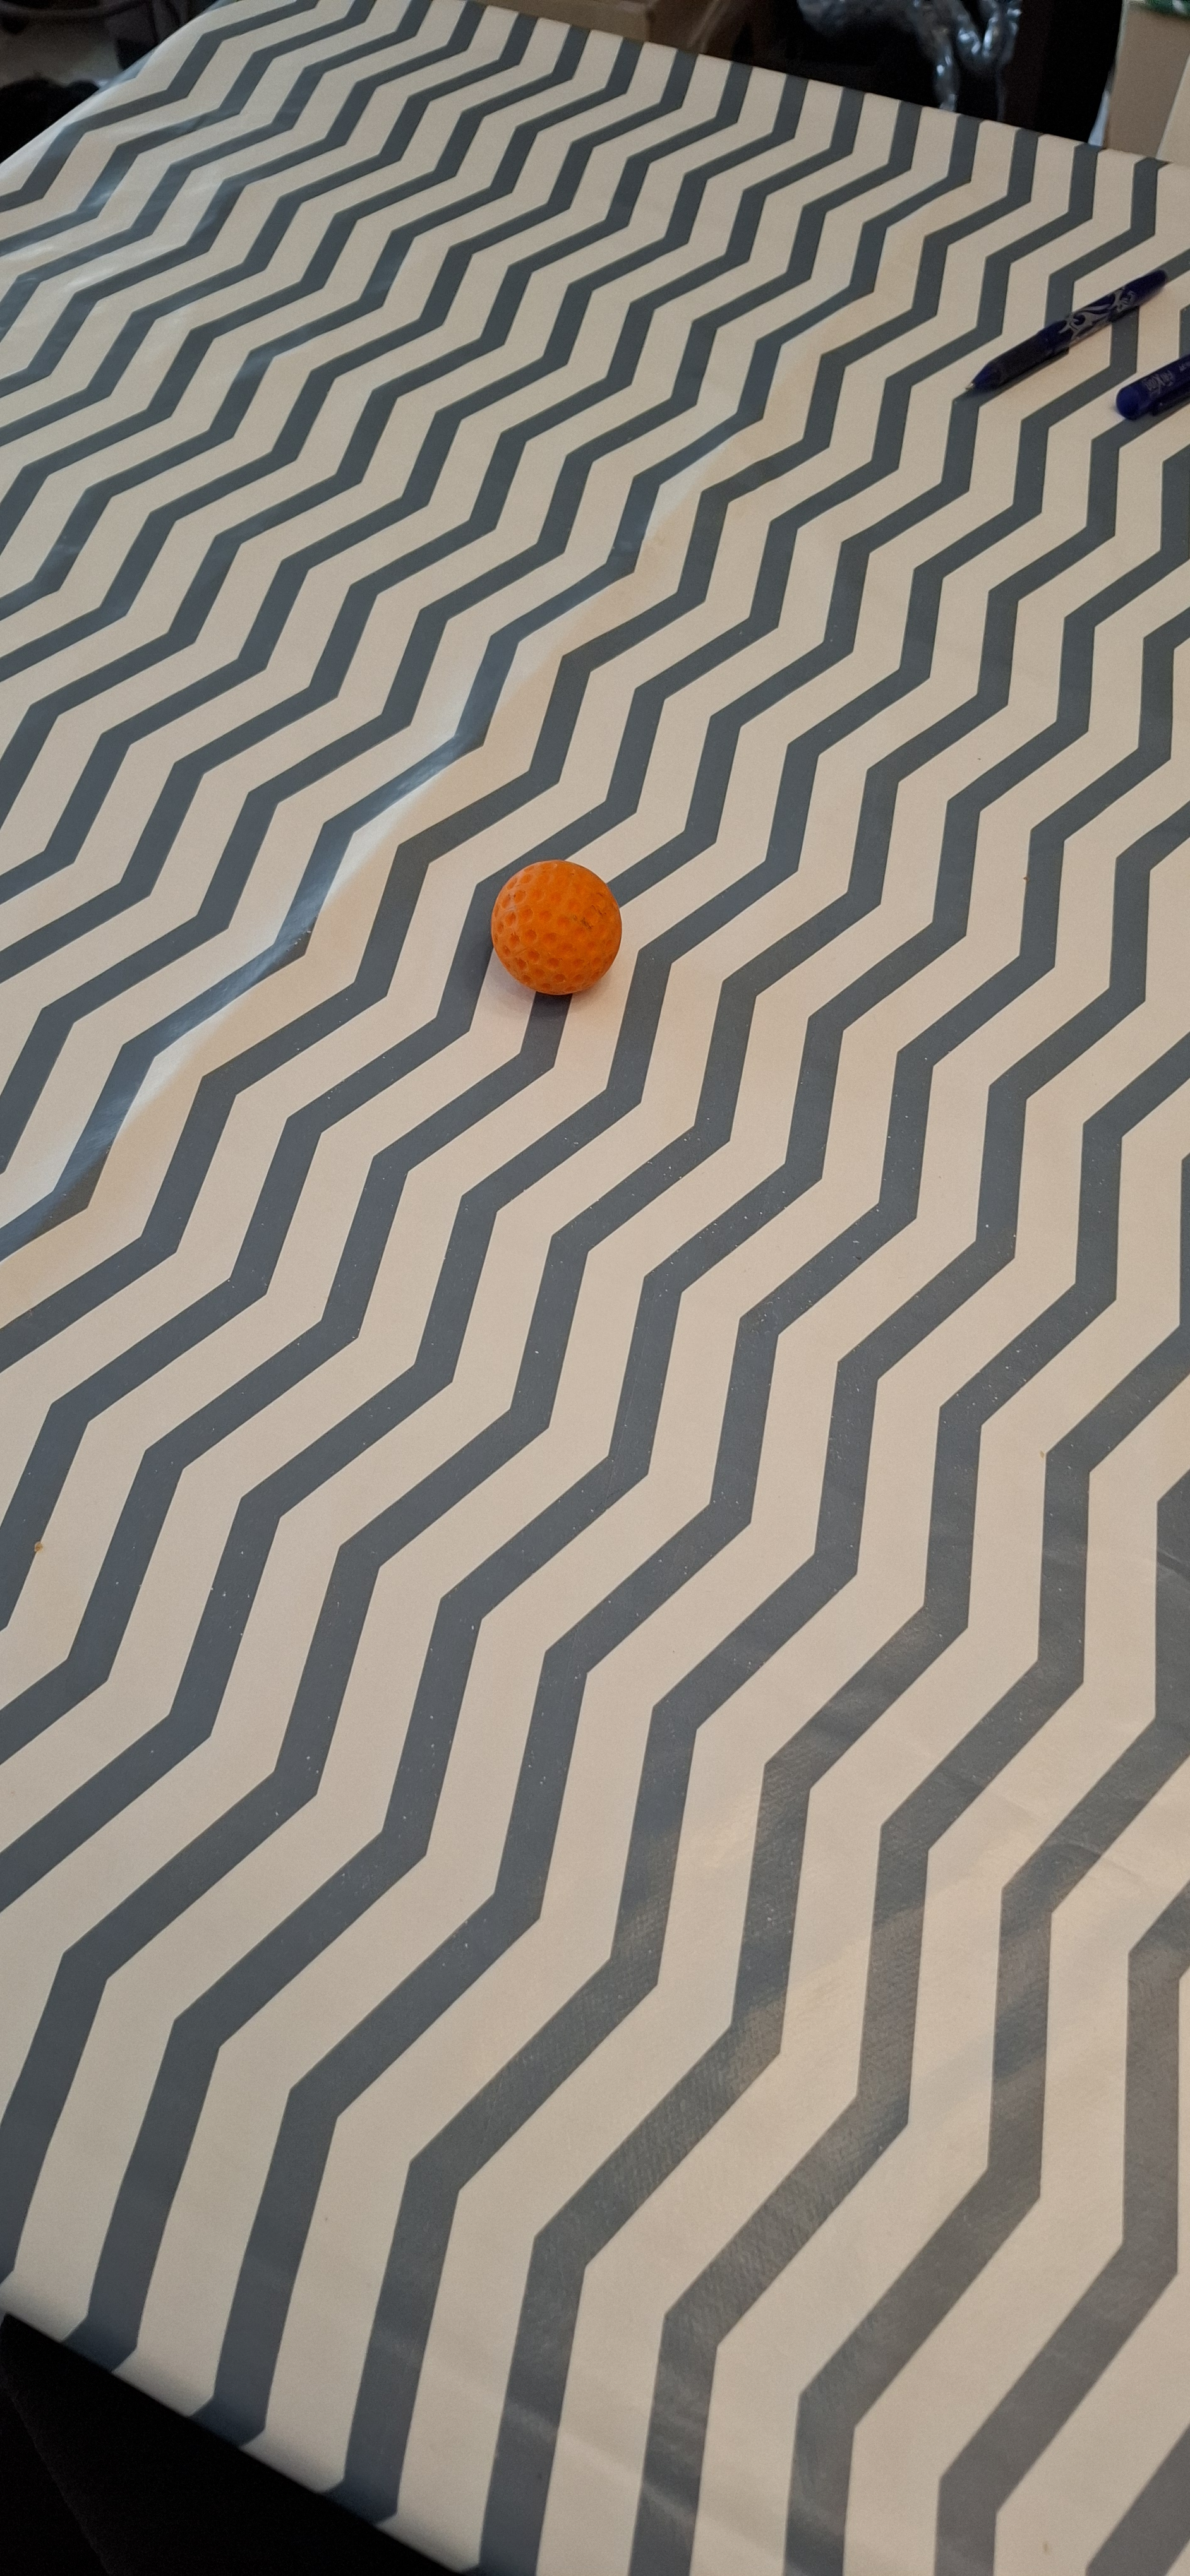ball: (394, 1219, 464, 1511)
